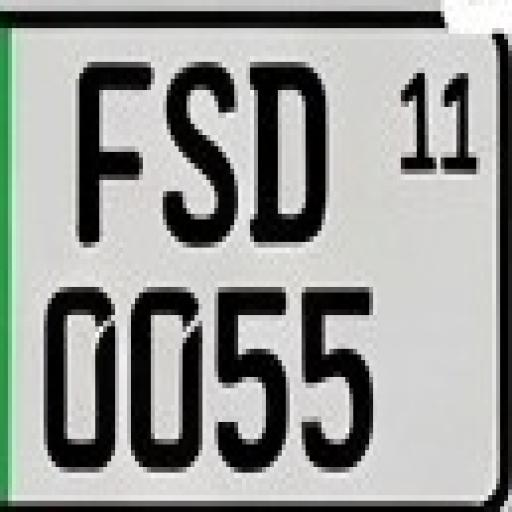0: (38, 279, 116, 474), (139, 275, 204, 482)
5: (295, 279, 389, 471), (212, 274, 286, 477)
D: (239, 60, 332, 244)
F: (68, 57, 156, 254)
S: (163, 72, 239, 252)
